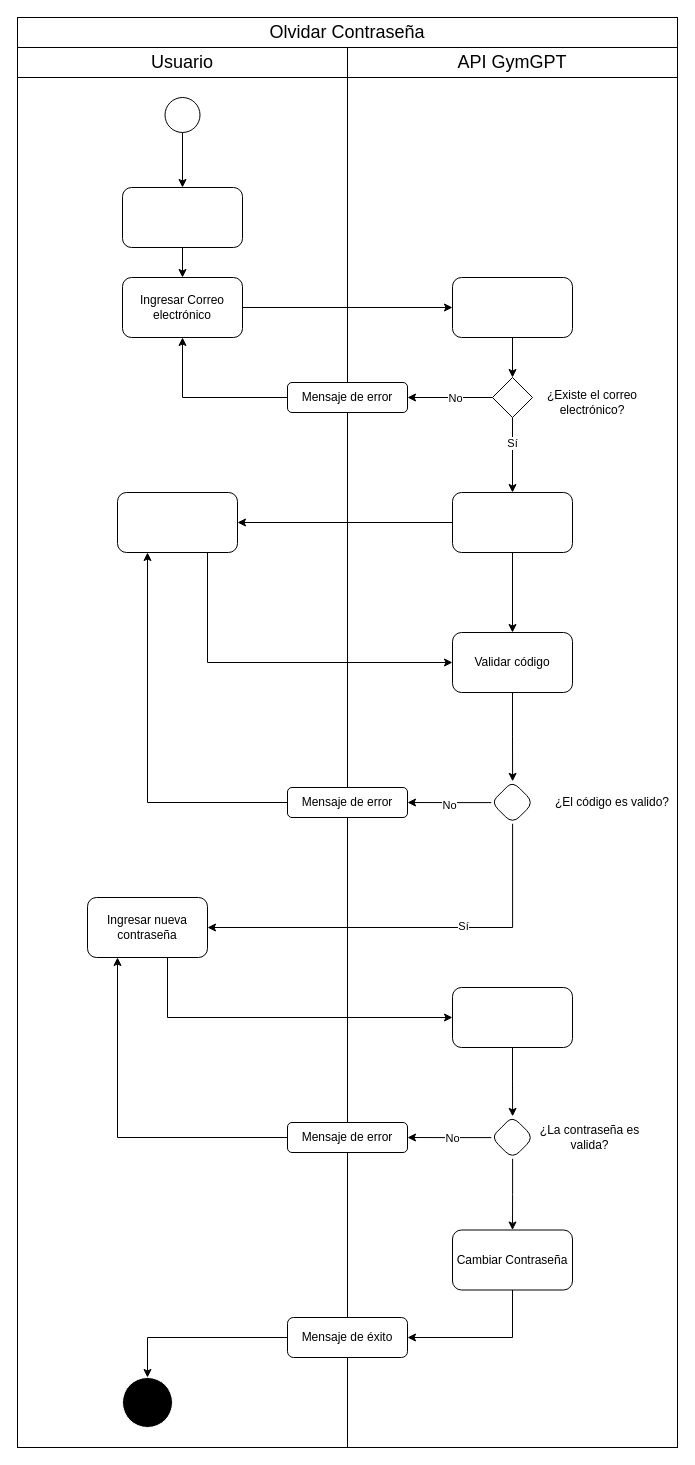
Some shapes in this 695 by 1465 pixel diagram are drawn without their labels. Each missing label, with the centre of its shape:
"Generar correo con código de confirmación." goes at pixel 512 522.
"Ingresa código de Confirmación" goes at pixel 177 522.
"Olvido contraseña" goes at pixel 182 217.
"Validar Correo electrónico" goes at pixel 512 307.
"Validar nueva contraseña" goes at pixel 512 1017.
